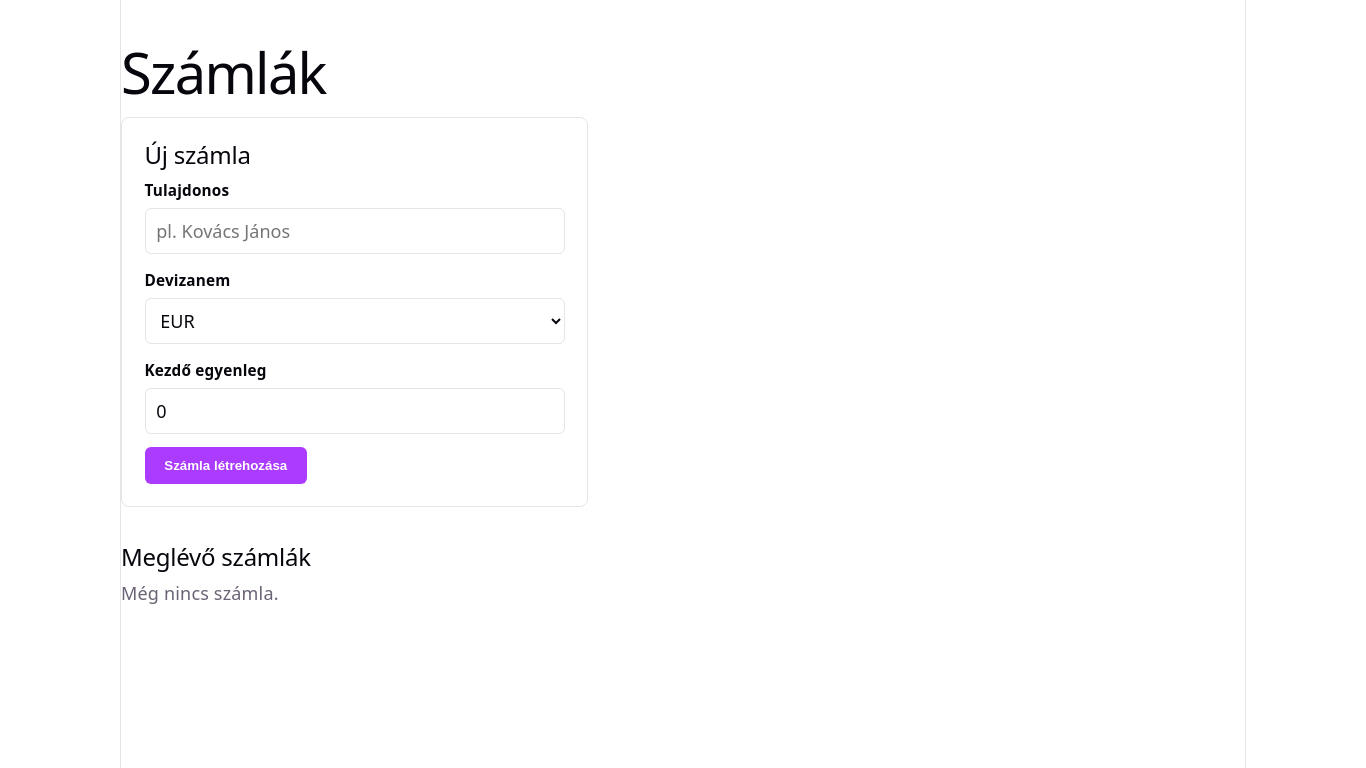
it: AccountsPage › shows the submit error message when account creation fails
Expected: the text "Még nincs számla." is shown, [121, 581, 279, 605]
Type "Dave" into the field labelled "Tulajdonos" at {"x": 354, "y": 231}, box [144, 208, 564, 254]
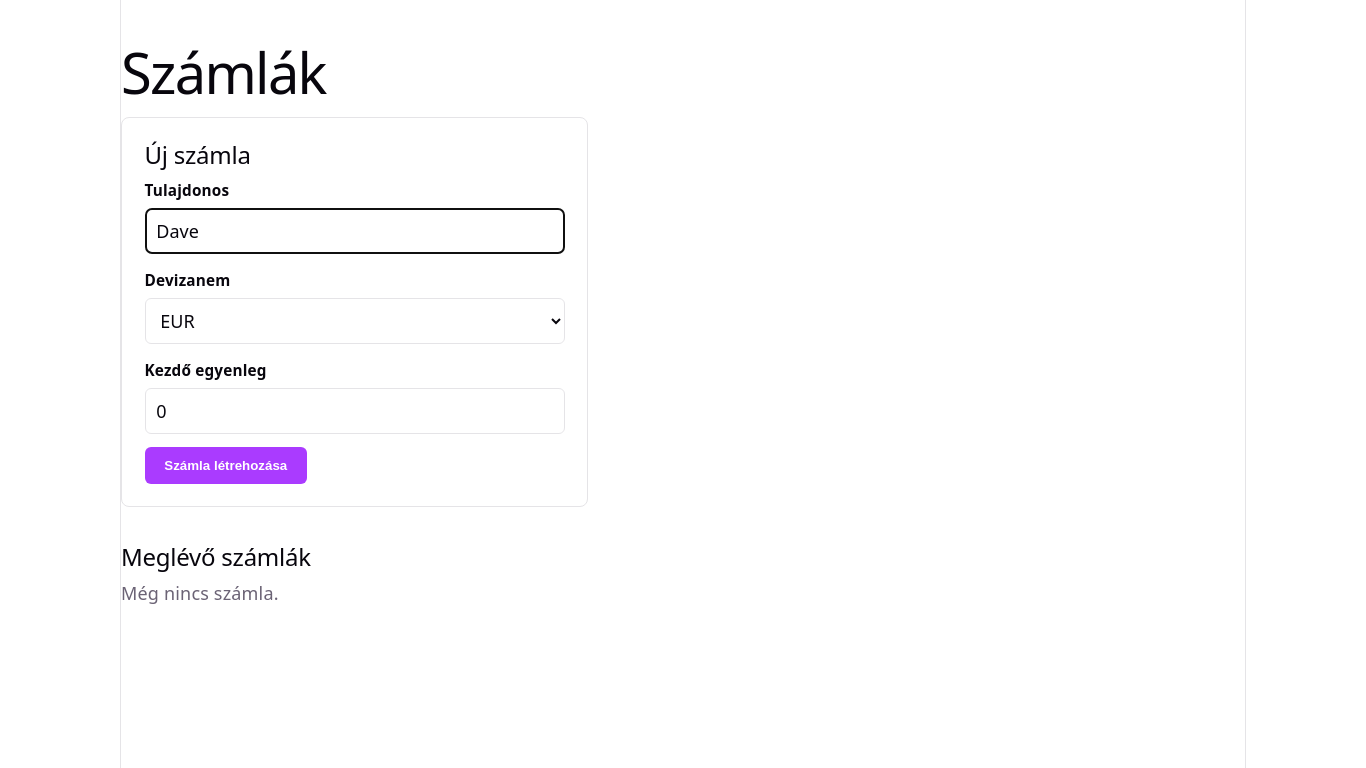
Click the button "Számla létrehozása" at {"x": 226, "y": 466}, box [144, 447, 307, 484]
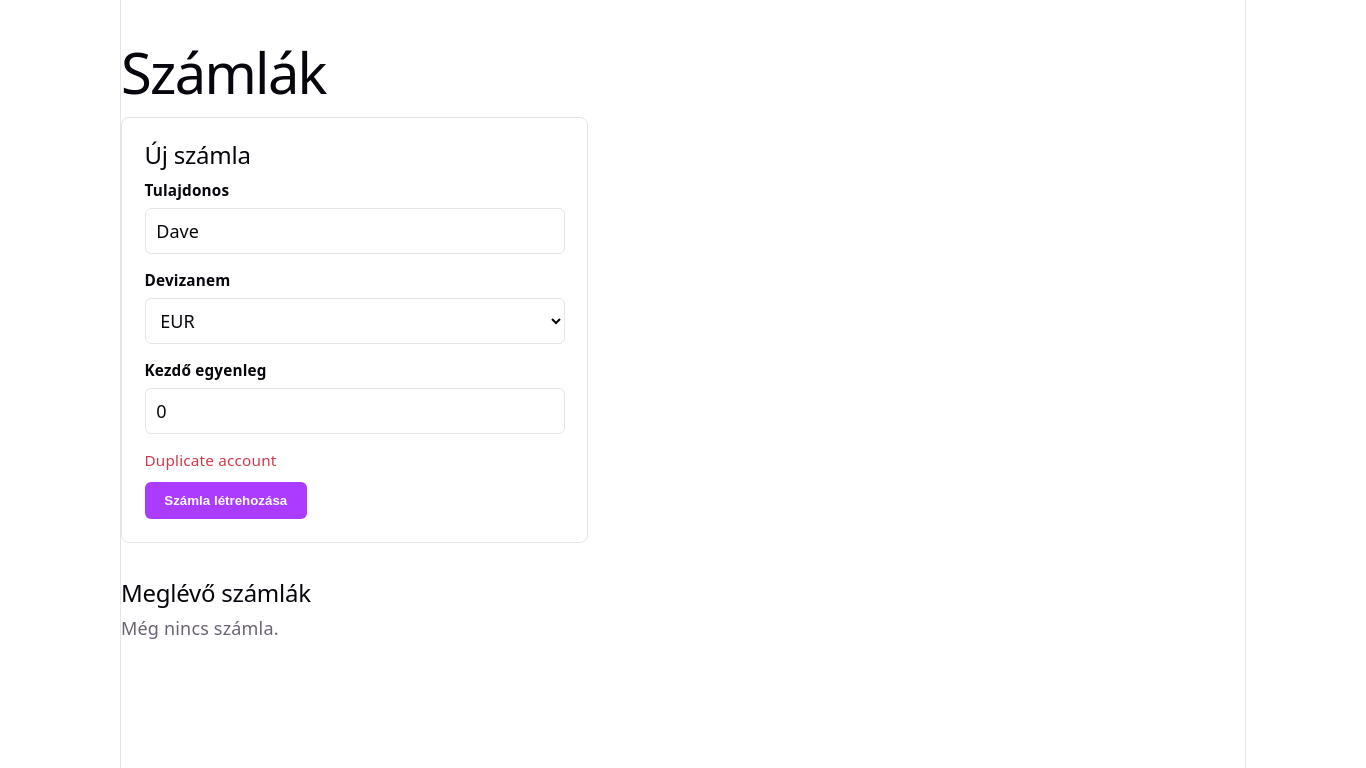
Expected: the text "Duplicate account" is shown, [144, 450, 276, 470]
